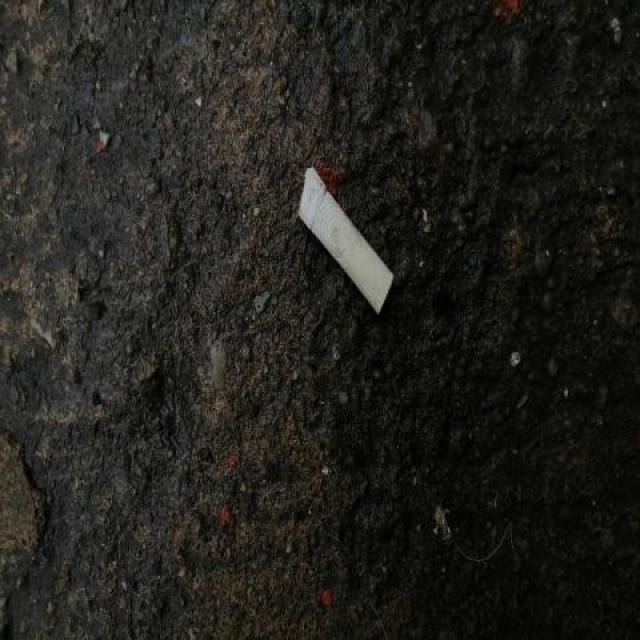non-organic waste: (290, 158, 398, 321)
